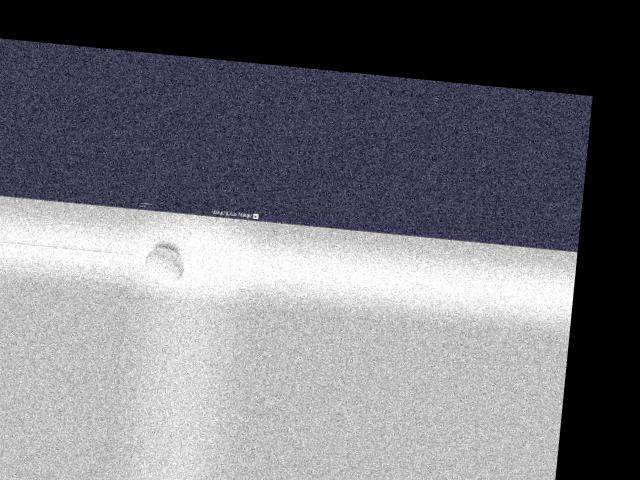egg: (142, 245, 185, 284)
